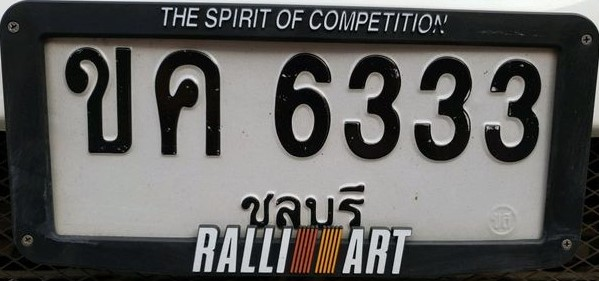txt02: (63, 44, 136, 156)
txt03: (152, 47, 225, 160)
